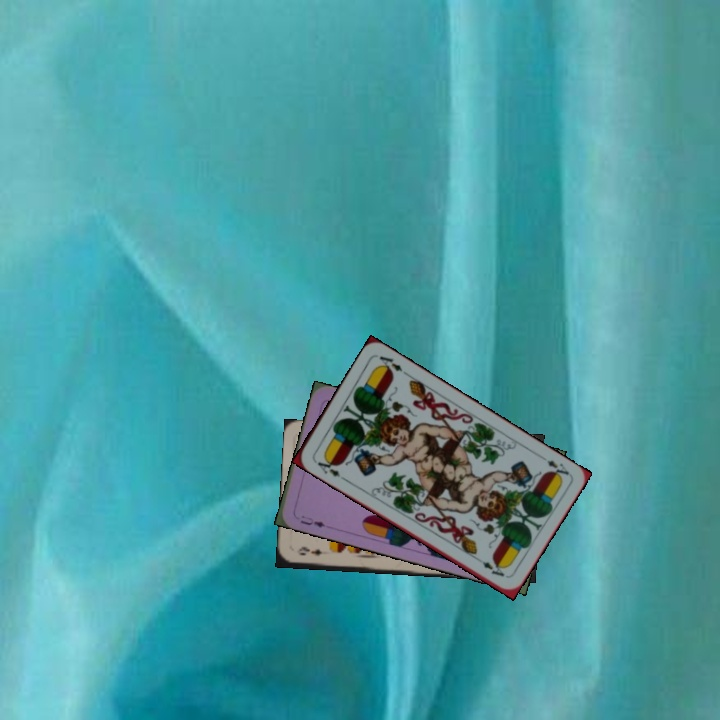E9: (292, 544, 325, 558)
EA: (536, 451, 572, 482), (313, 453, 347, 482)
EU: (296, 511, 328, 530)
